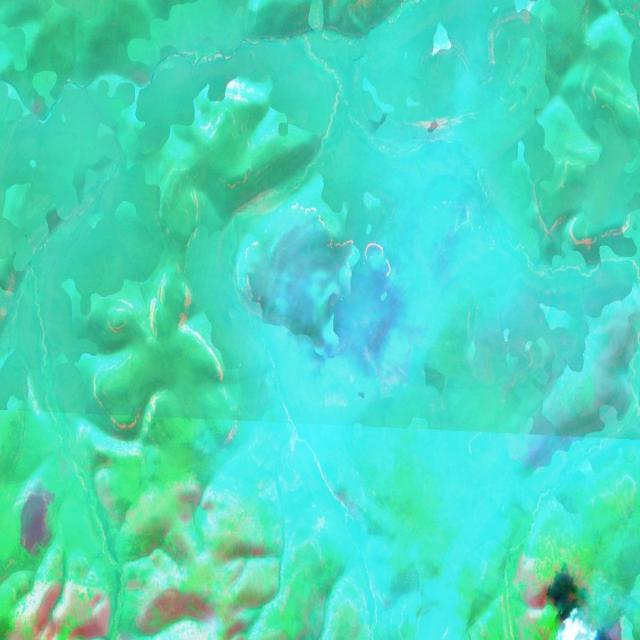fire: (214, 200, 425, 394)
